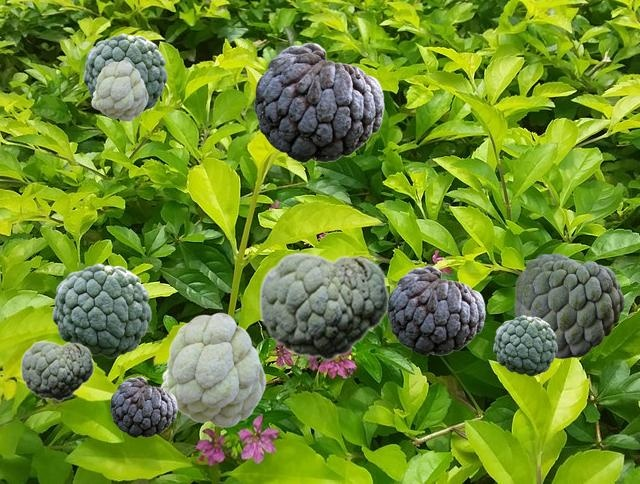atis: (254, 42, 383, 161), (258, 251, 389, 360), (160, 312, 265, 426), (514, 253, 623, 357), (52, 263, 150, 357), (387, 265, 484, 354), (83, 33, 166, 111), (20, 340, 93, 400), (110, 376, 176, 436), (493, 315, 556, 375), (91, 60, 147, 120)
